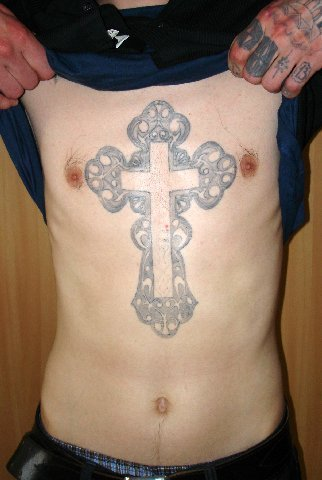tatu9_krest: (83, 101, 240, 339)
